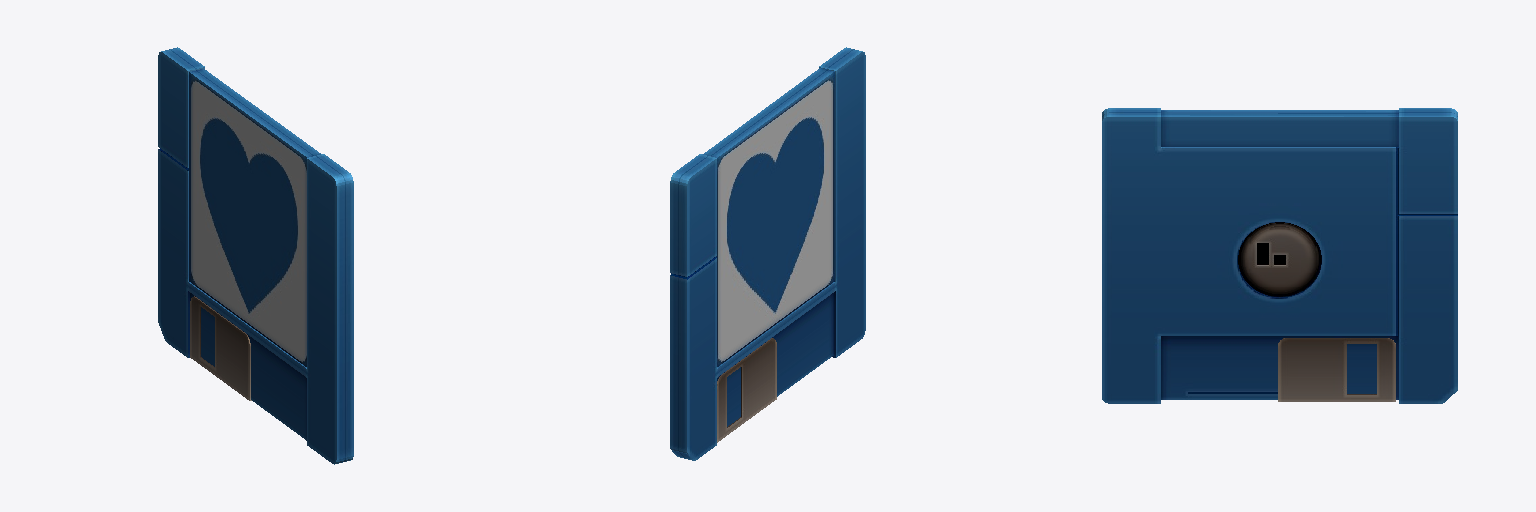
3 views of the same model, side by side, from view 1: azimuth 30°, elevation 25°; view 2: azimuth 150°, elevation 25°; view 3: azimuth 270°, elevation 25° (orthographic).
Visible parts, largest first — view 1: Object_DiskTex.jpg; view 2: Object_DiskTex.jpg; view 3: Object_DiskTex.jpg.
Boxes of the visible parts, x1,y1,x2,y2 form: Object_DiskTex.jpg: [158, 47, 353, 464]; Object_DiskTex.jpg: [670, 47, 865, 460]; Object_DiskTex.jpg: [1102, 108, 1457, 403].
Bounding box in the file's own units: 0.1389 × 2.22 × 2.5.
2 materials, 2 textured.